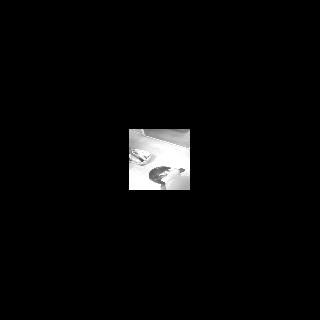kettlebell: (148, 166, 184, 184)
